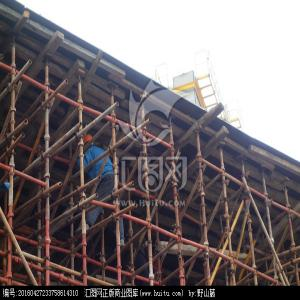yellow: (83, 133, 95, 150)
